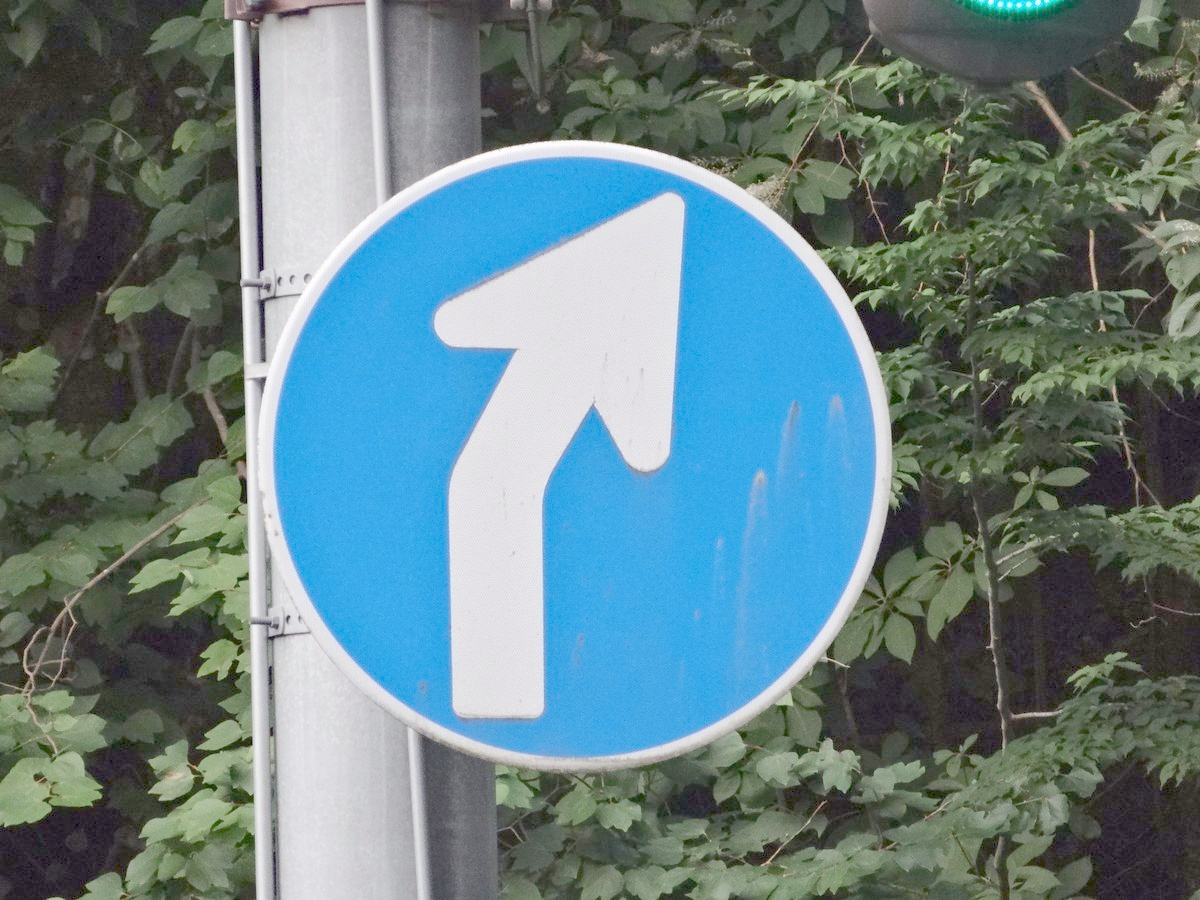Direction_sign: (250, 134, 932, 805)
